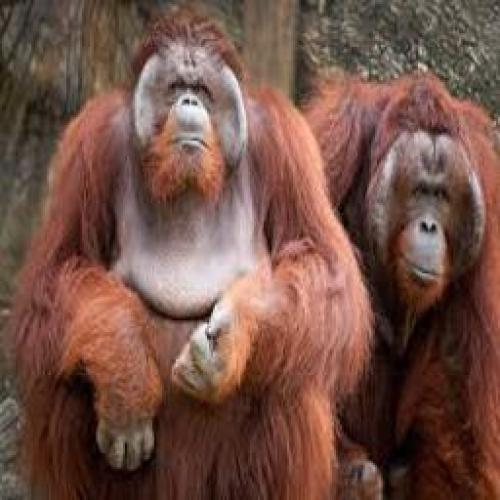orangutan-endangered: (19, 14, 369, 492), (298, 73, 493, 488)
